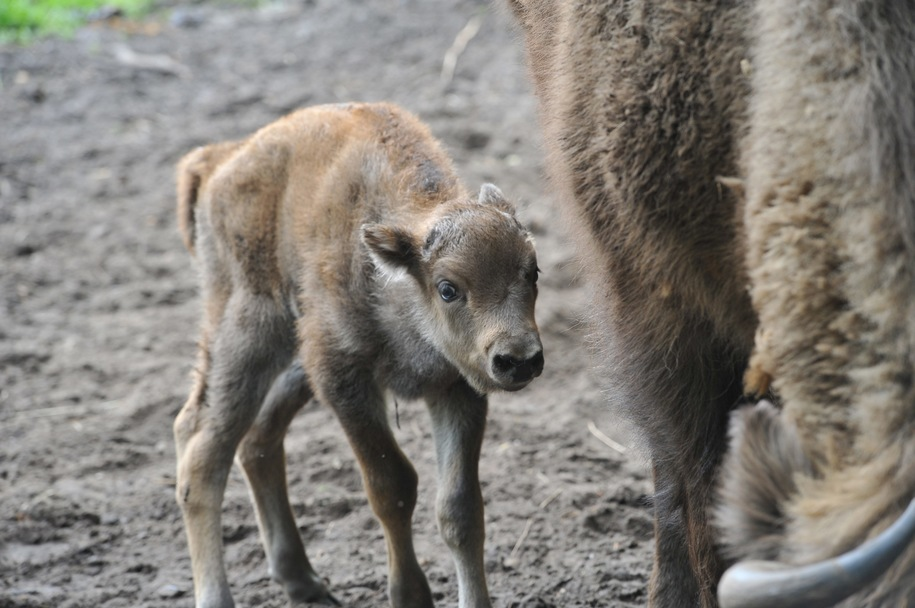zubr: (139, 73, 561, 592)
